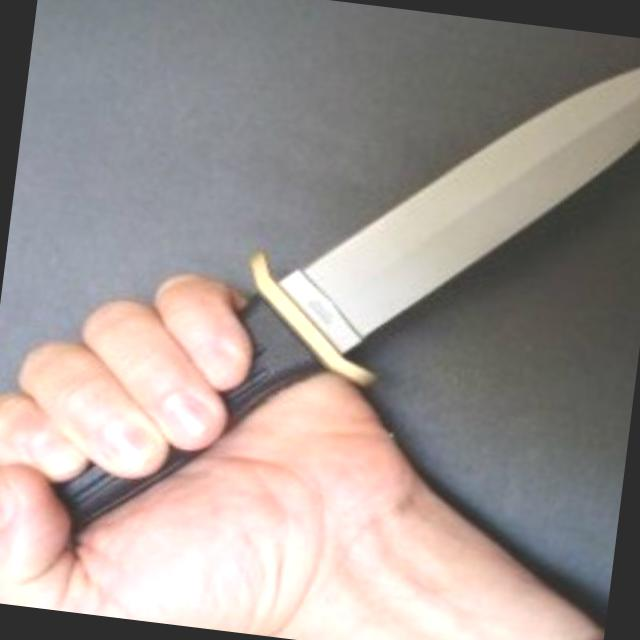knife: (57, 0, 639, 523)
